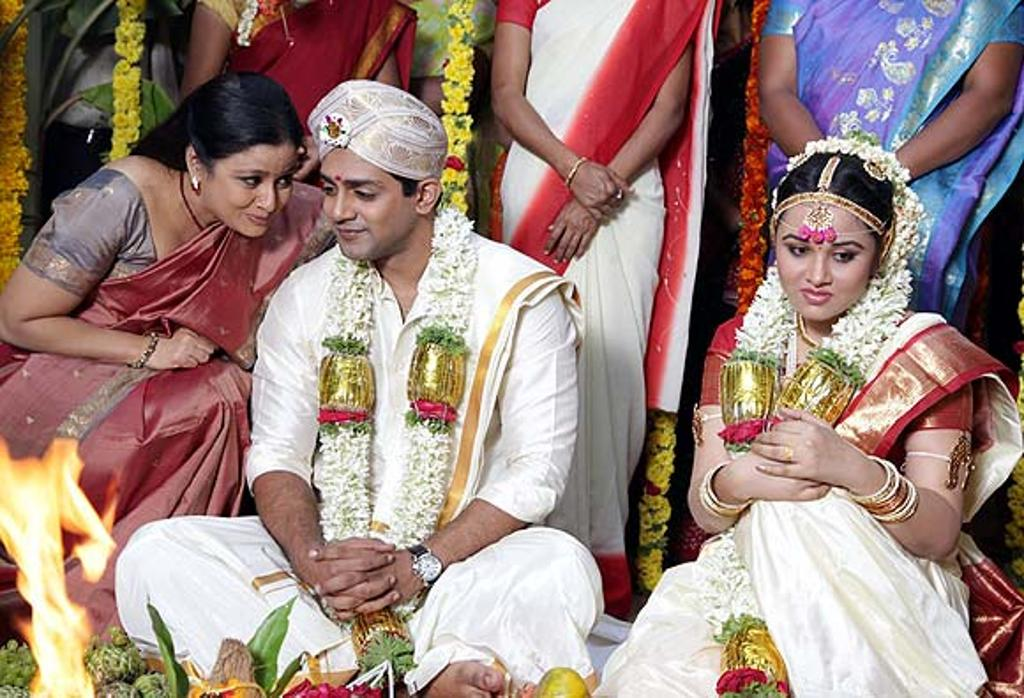face: (776, 200, 868, 306), (320, 144, 392, 254), (222, 144, 294, 234)
